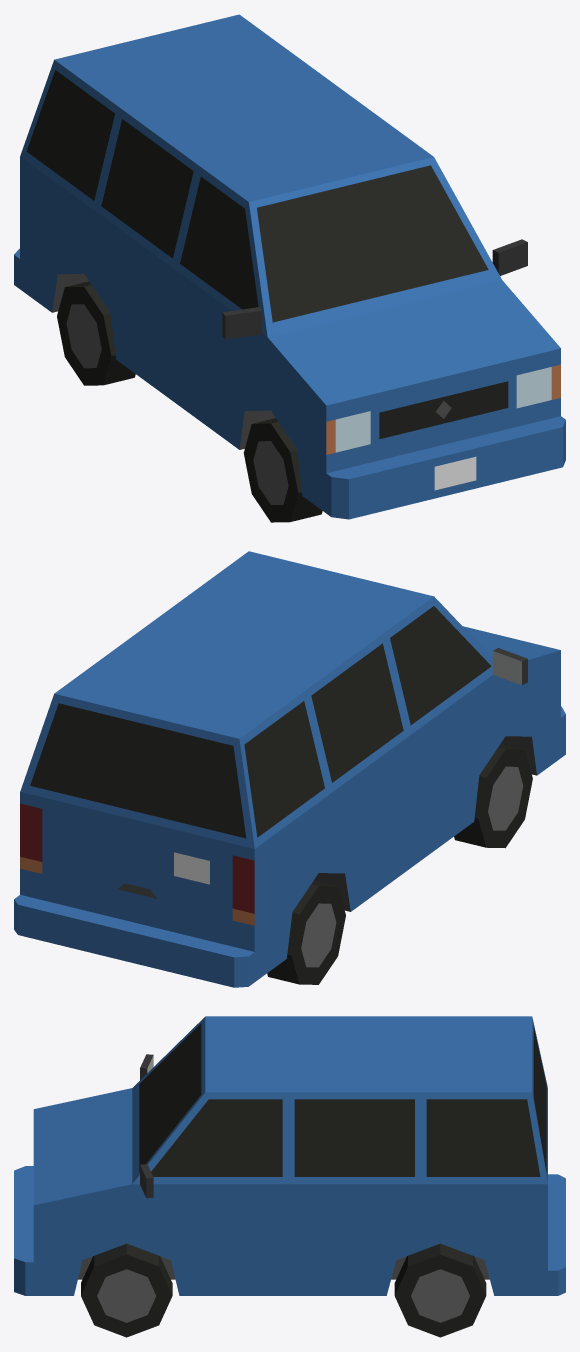
File: Veh_Minivan_Blue.glb
The picture shows the model from 3 angles, top to bottom: view 1: azimuth 30°, elevation 25°; view 2: azimuth 150°, elevation 25°; view 3: azimuth 270°, elevation 25°; orthographic projection. The views are drawn at different scales.
Parts seen in each view (by area): view 1: Minivan_Blue, Wheel_RR, Wheel_FR; view 2: Minivan_Blue, Wheel_RR, Wheel_FR; view 3: Minivan_Blue, Wheel_RL, Wheel_FL.
Part boxes in pixels (x1,y1,x2,y2): Minivan_Blue: (14,14,565,519); Wheel_RR: (57,281,135,385); Wheel_FR: (243,418,322,522); Minivan_Blue: (14,551,565,987); Wheel_RR: (267,880,345,984); Wheel_FR: (454,744,532,848); Minivan_Blue: (14,1016,565,1295); Wheel_RL: (394,1243,486,1337); Wheel_FL: (81,1243,172,1337).
Size of the model in its own units: 1.31 by 1.16 by 2.46.
1 material, 1 textured.
